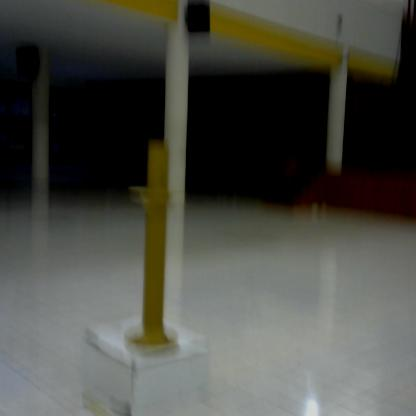pole: (120, 134, 192, 364)
